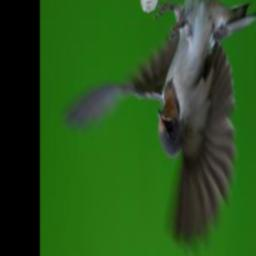Swallow: (64, 0, 253, 255)
